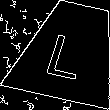L_N: (44, 23, 95, 80)
